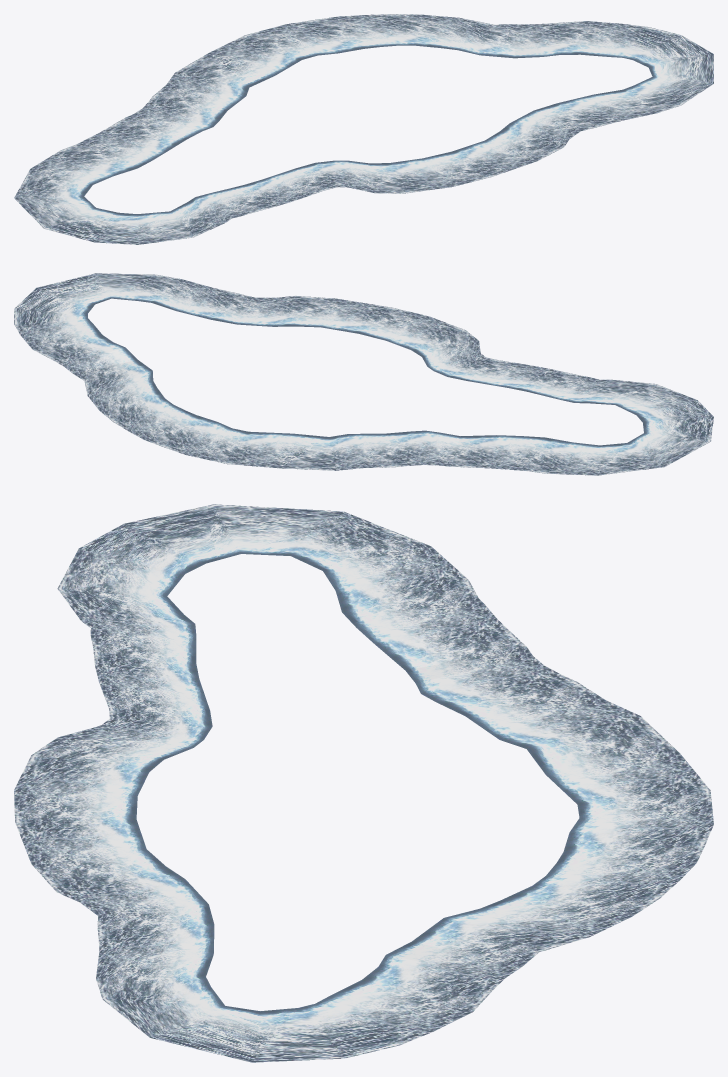
The model's file is island_13_coast.fbx.
3 renders of one model, top to bottom at view 1: azimuth 30°, elevation 25°; view 2: azimuth 150°, elevation 25°; view 3: azimuth 270°, elevation 25°, orthographic. The views are drawn at different scales.
Visible parts, largest first — view 1: island_13_coast1; view 2: island_13_coast1; view 3: island_13_coast1.
Boxes of the visible parts, x1,y1,x2,y2 form: island_13_coast1: [14, 14, 713, 244]; island_13_coast1: [14, 273, 713, 475]; island_13_coast1: [14, 504, 713, 1062].
Size of the model in its own units: 85.78 by 0.2391 by 45.45.
